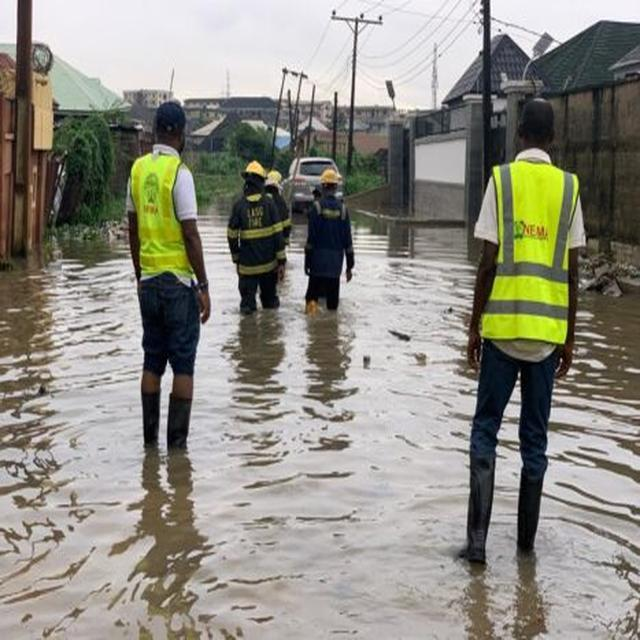Person-RiskLevel2: (455, 92, 577, 569), (121, 98, 214, 462), (227, 148, 288, 307), (299, 167, 357, 315)
